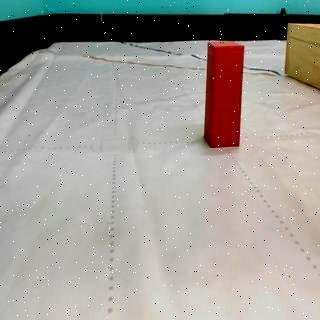redbox: (204, 40, 246, 148)
